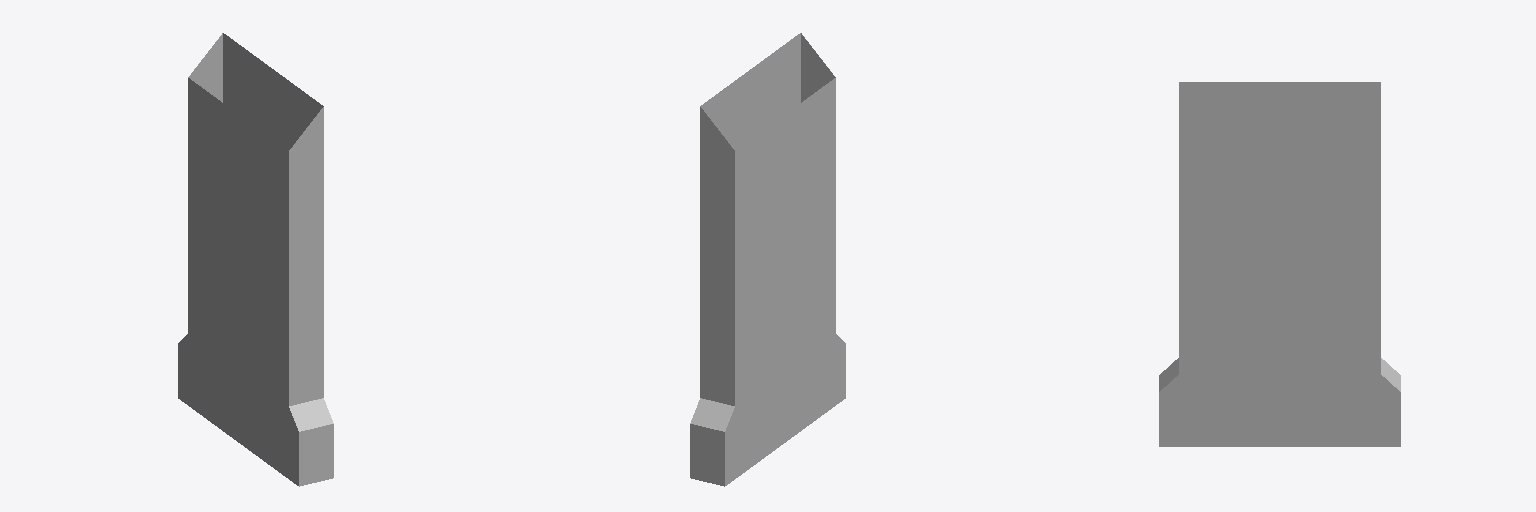
Rendered from door_right.obj.
The picture shows the model from 3 angles: view 1: azimuth 30°, elevation 25°; view 2: azimuth 150°, elevation 25°; view 3: azimuth 270°, elevation 25°; orthographic projection.
Visible parts, largest first — view 1: wall-door-rotate; view 2: wall-door-rotate; view 3: wall-door-rotate.
Boxes of the visible parts, x1=… form: wall-door-rotate: x1=178, y1=33, x2=333, y2=486; wall-door-rotate: x1=690, y1=33, x2=845, y2=486; wall-door-rotate: x1=1159, y1=82, x2=1400, y2=446.
Size of the model in its own units: 0.1 by 1 by 0.6.